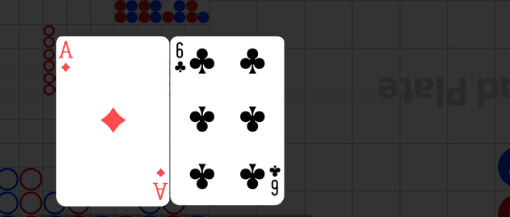6C: (267, 162, 282, 197)
AD: (59, 41, 75, 75)
